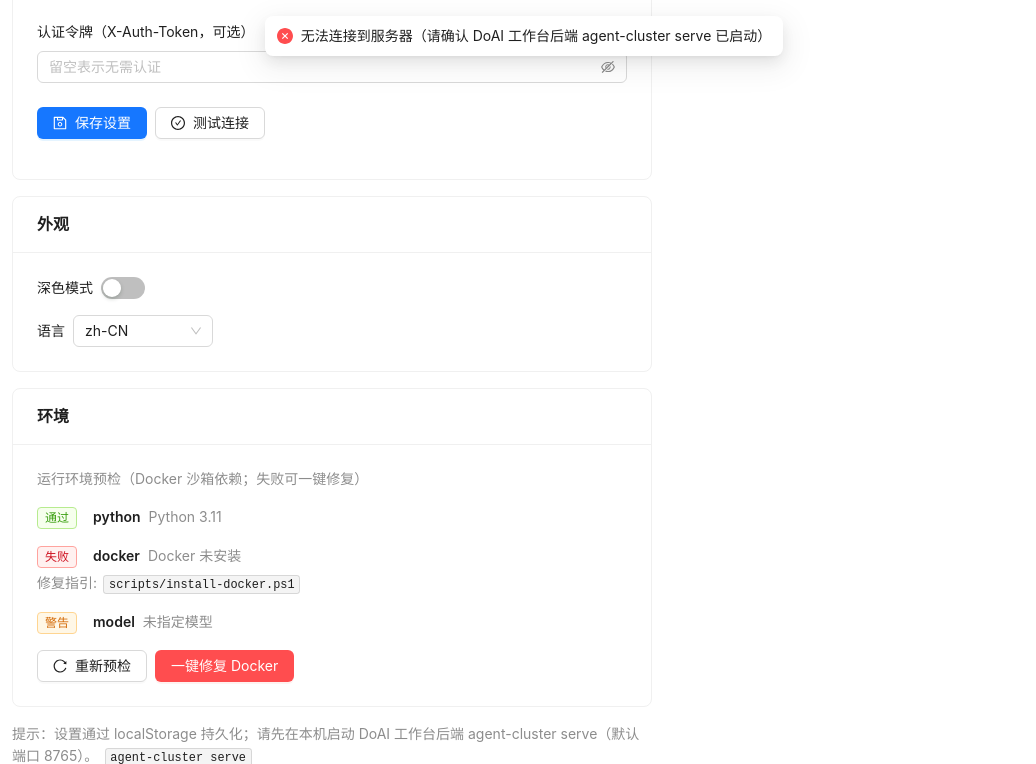
Settings 页面 › 一键修复按钮触发 POST /api/v1/doctor/fix-docker 并展示输出
(page scrolled)
Click the button with test id "env-fix-docker-btn" at (225, 666), box [155, 650, 294, 682]
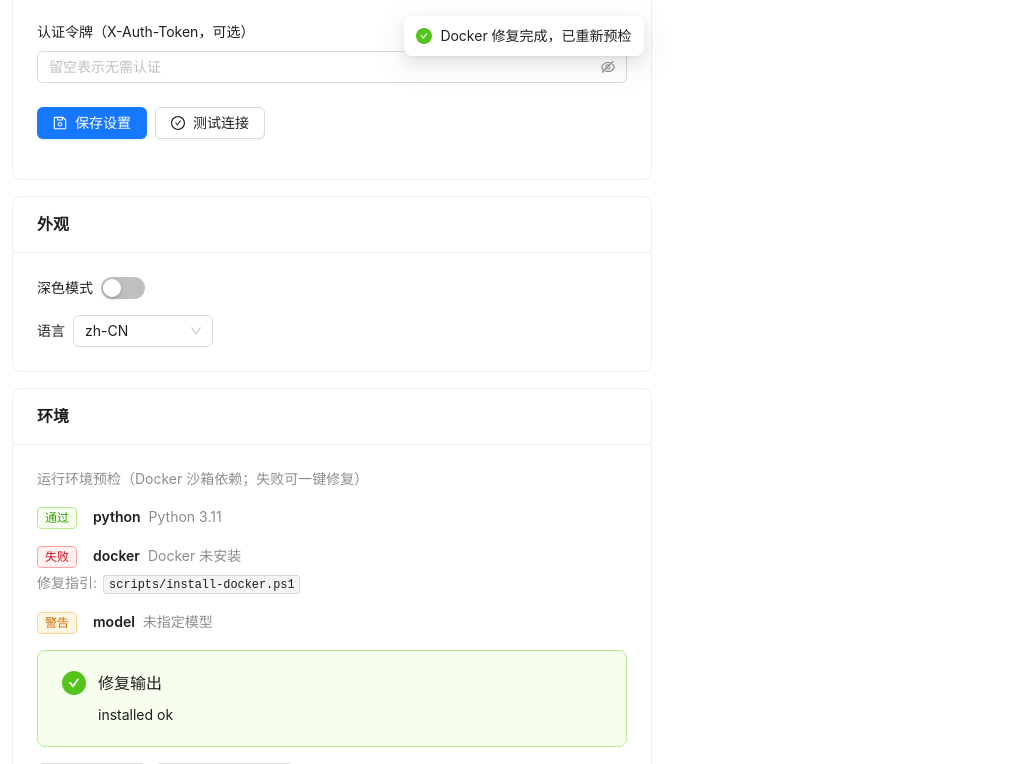
Expected: the message "修复输出 installed ok" is shown, [37, 650, 627, 747]
Expected: the text "installed ok" is shown, [98, 706, 173, 723]
